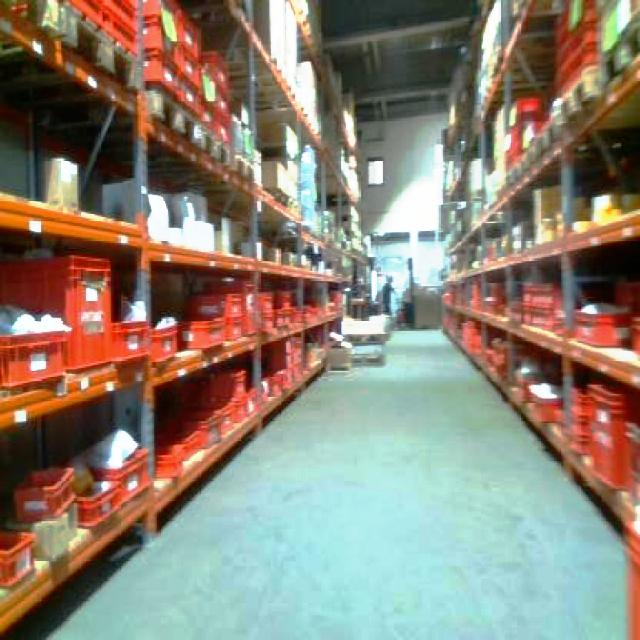ground: (0, 323, 637, 638)
pallet: (438, 0, 638, 638)
